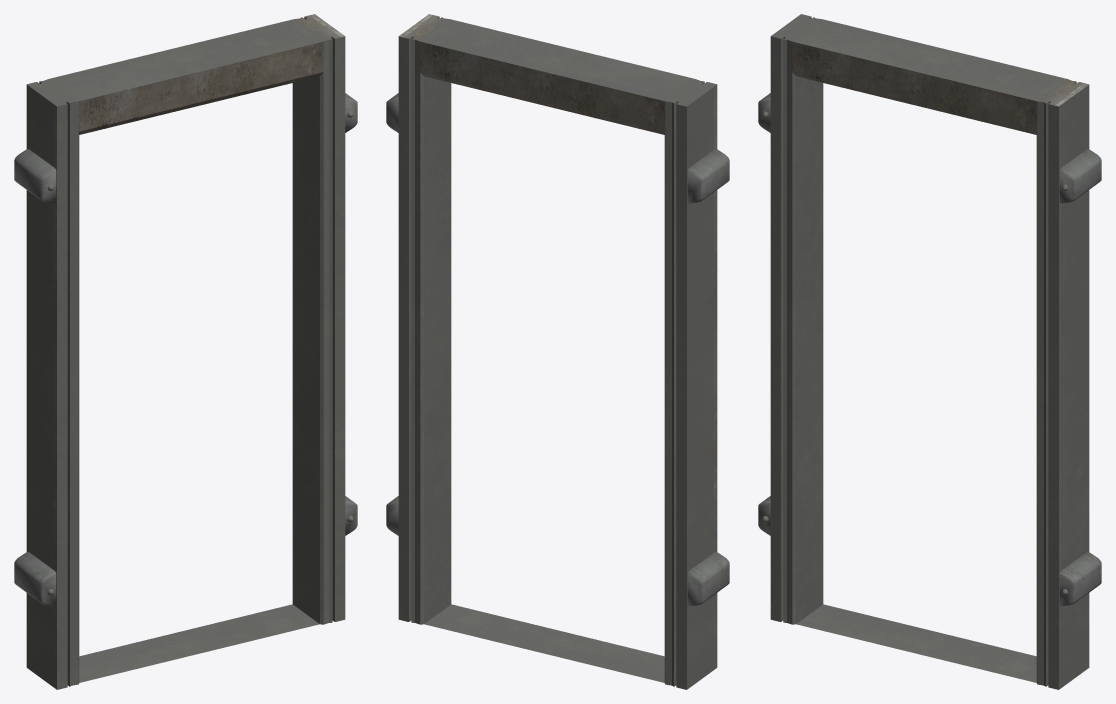
File: SM_SlidingDoor1PPT4_SM_SlidingDoor_C_Frame_mo.glb
3 views of the same model, side by side, from view 1: azimuth 30°, elevation 25°; view 2: azimuth 150°, elevation 25°; view 3: azimuth 330°, elevation 25° (orthographic).
Parts seen in each view (by area): view 1: SM_SlidingDoor1PPT4_SM_SlidingDoor_C_Frame_mo; view 2: SM_SlidingDoor1PPT4_SM_SlidingDoor_C_Frame_mo; view 3: SM_SlidingDoor1PPT4_SM_SlidingDoor_C_Frame_mo.
Boxes of the visible parts, <box> form: SM_SlidingDoor1PPT4_SM_SlidingDoor_C_Frame_mo: <box>14,14,357,689</box>; SM_SlidingDoor1PPT4_SM_SlidingDoor_C_Frame_mo: <box>386,14,729,689</box>; SM_SlidingDoor1PPT4_SM_SlidingDoor_C_Frame_mo: <box>758,14,1101,689</box>.
Bounding box in the file's own units: 1.76 × 3.09 × 0.3036.
2 materials, 2 textured.
